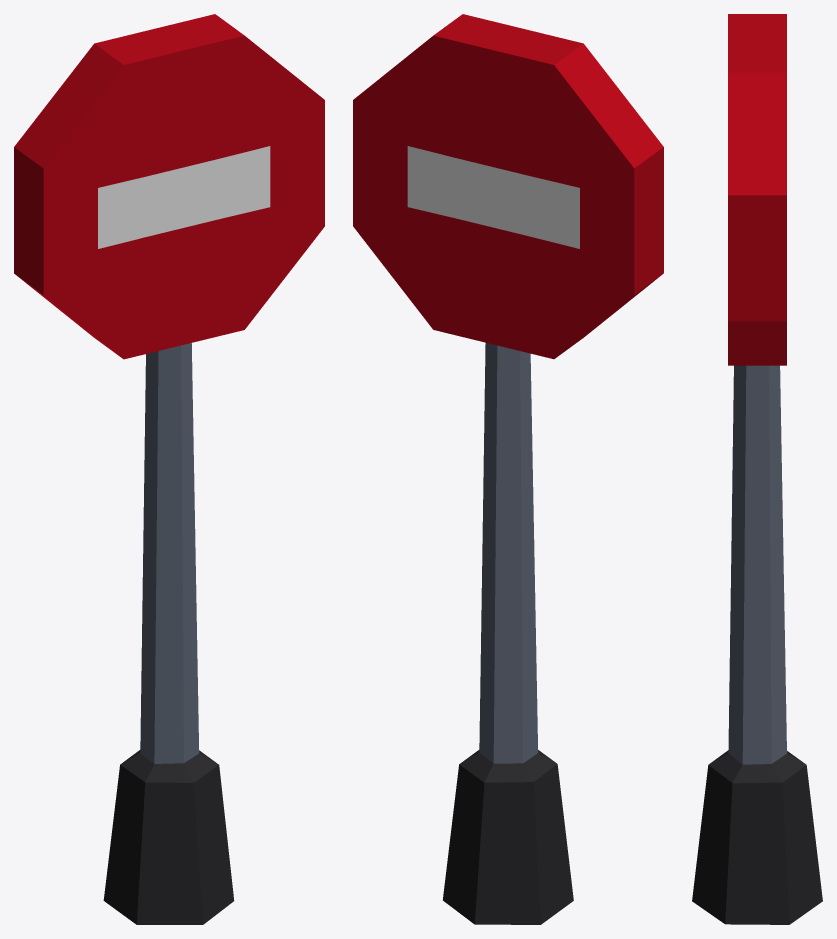
The model's file is Road Sign 3.fbx.
3 renders of one model, left to right at view 1: azimuth 30°, elevation 25°; view 2: azimuth 150°, elevation 25°; view 3: azimuth 270°, elevation 25°, orthographic.
Parts seen in each view (by area): view 1: Road_Sign_03; view 2: Road_Sign_03; view 3: Road_Sign_03.
Boxes of the visible parts, x1,y1,x2,y2 form: Road_Sign_03: (14, 14, 324, 924); Road_Sign_03: (353, 14, 663, 924); Road_Sign_03: (692, 14, 822, 924).
Size of the model in its own units: 55.39 by 162 by 22.44.
